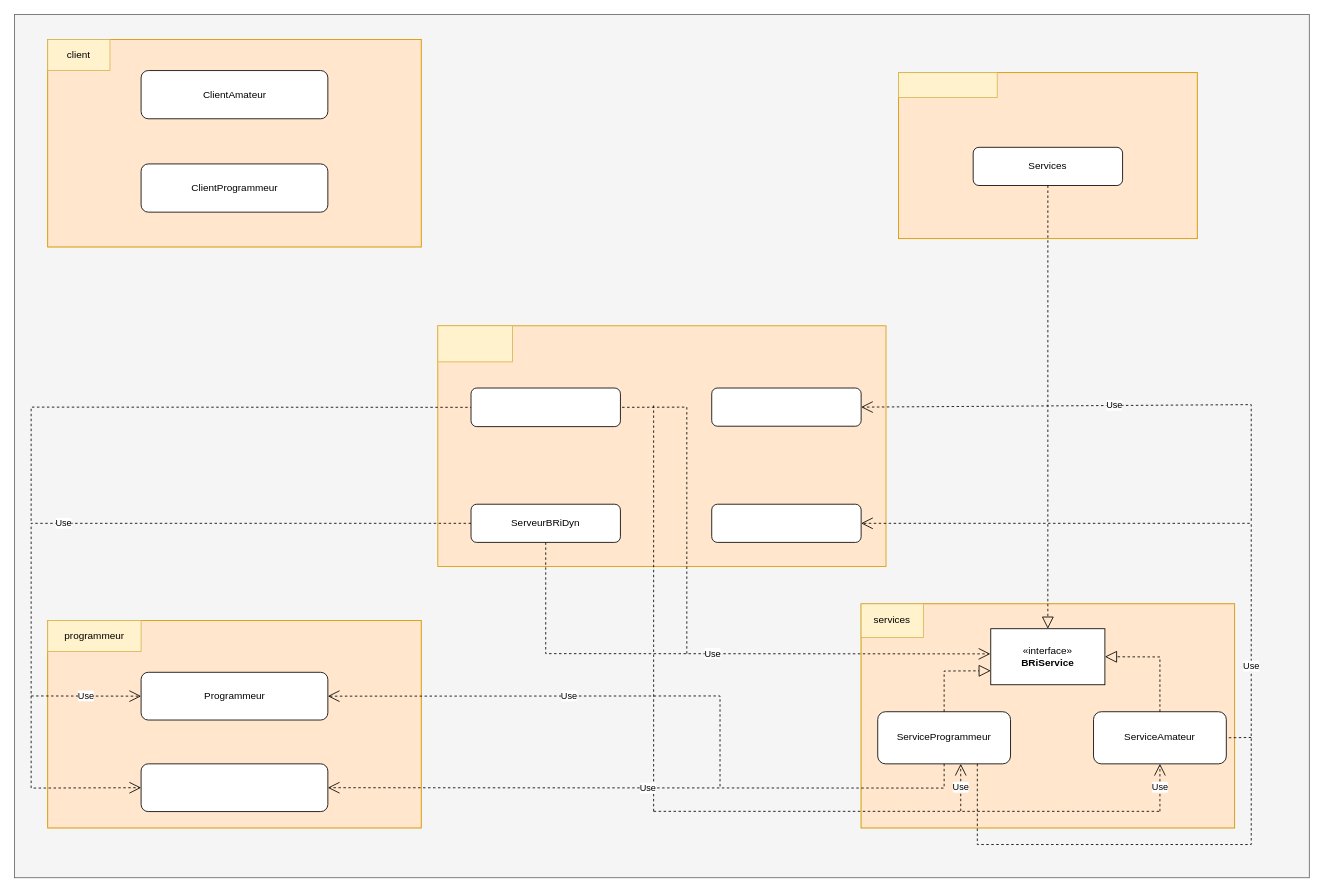
The diagram is 1324 pixels wide and 892 high, and some of its shapes have lost their labels. The shapes that lost their labels are listed below. From the top down, each one's centre as x and y in pixels, then its label:
At pixel 947 85: "services utilisateurs".
At pixel 475 343: "appli".
At pixel 545 407: "BRiLaunch".
At pixel 786 406: "ServiceRegister".
At pixel 786 522: "DynamicServiceLoader".
At pixel 234 787: "ProgrammeurRegister".
